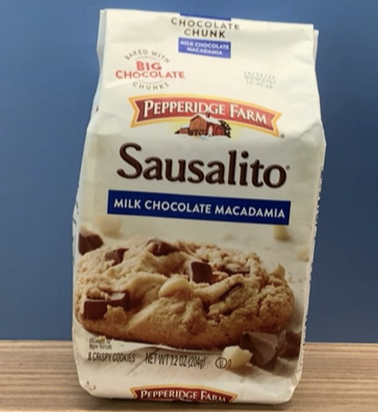cookies_200g-299g: (97, 101, 297, 356)
